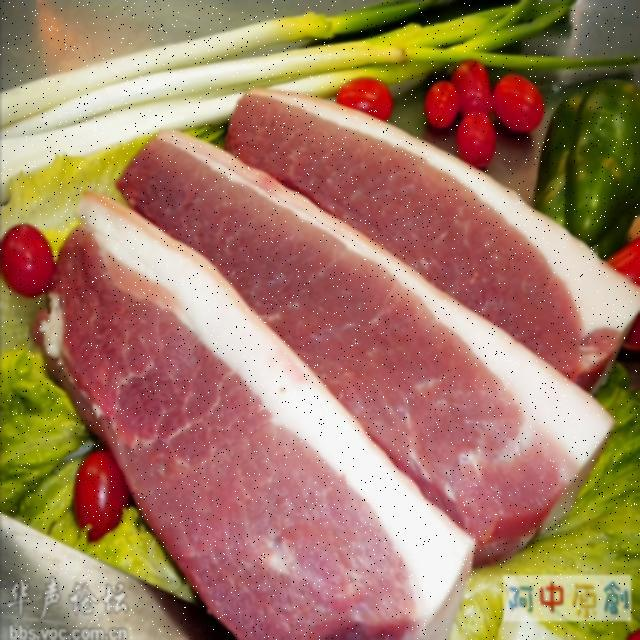pork: (108, 132, 612, 541), (30, 189, 470, 639), (221, 87, 638, 394)
